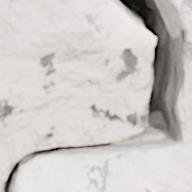brick: (18, 142, 191, 191)
broken_brick: (0, 0, 153, 60), (175, 0, 191, 42)
crack: (2, 0, 189, 191)
